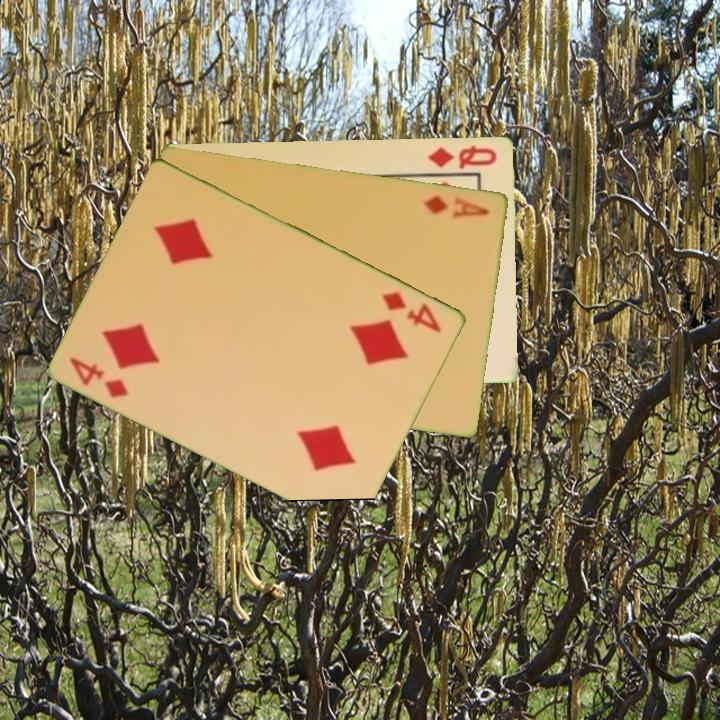4d: (378, 287, 445, 335), (66, 353, 132, 401)
Ad: (420, 191, 493, 221)
Qd: (425, 142, 500, 171)
